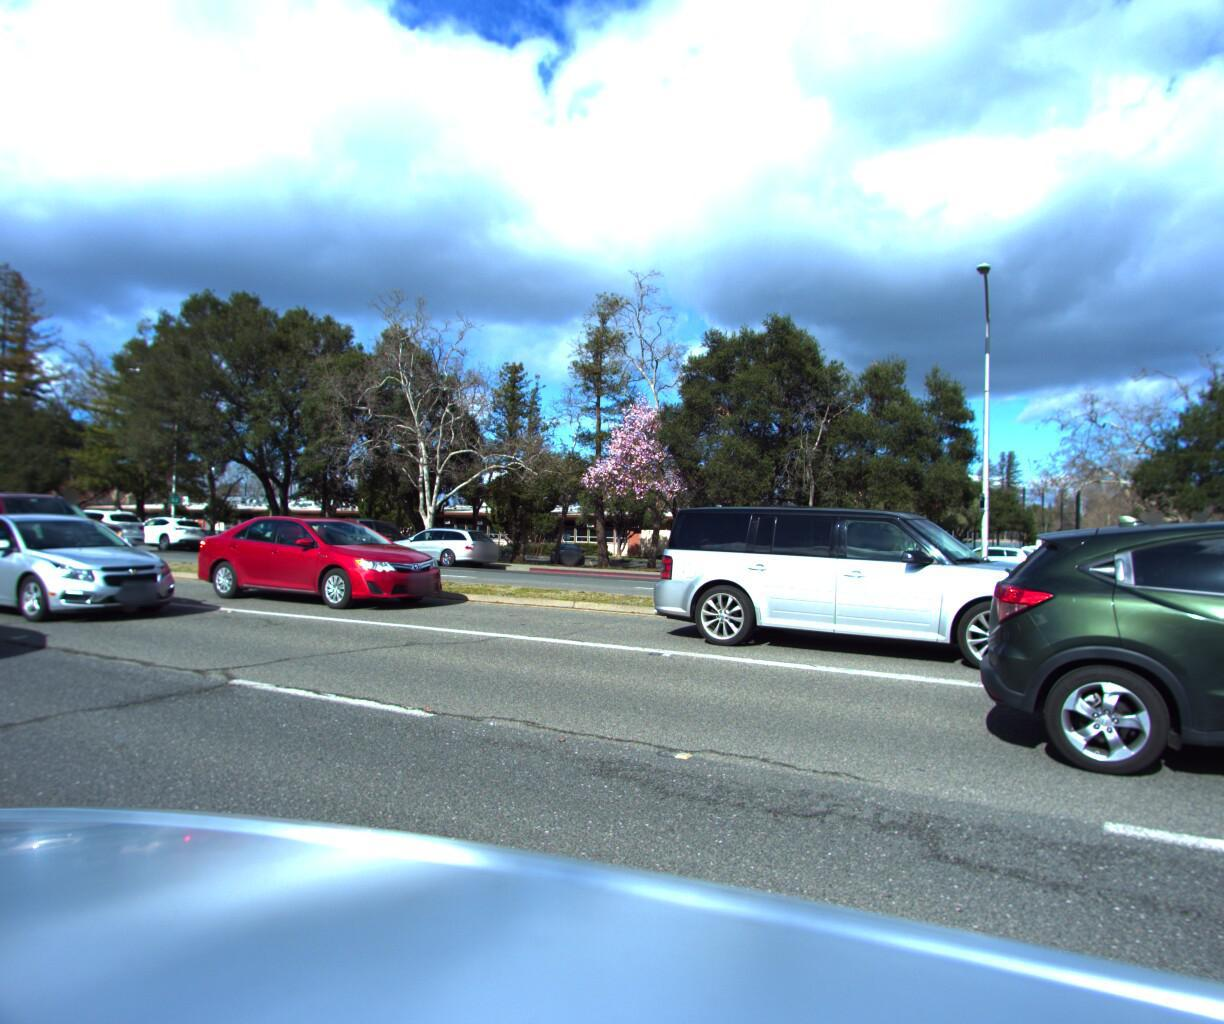car: (977, 507, 1224, 943), (652, 502, 1120, 692), (185, 517, 456, 620), (0, 513, 207, 633), (0, 493, 149, 593), (375, 529, 505, 577), (291, 521, 409, 570), (46, 513, 155, 556), (120, 519, 215, 561)
